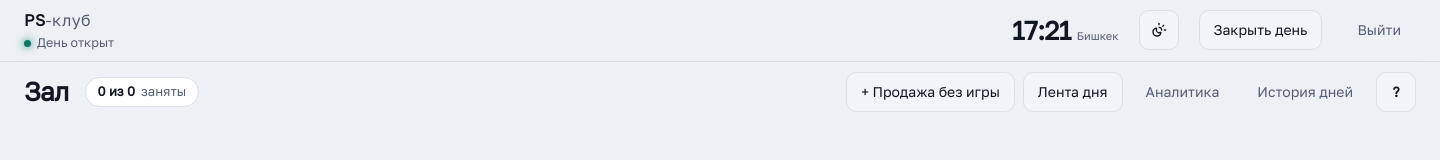
HallPage › продажа без игры › shows an error when creating a new ticket fails
The width and height of the screenshot is (1440, 160).
What coordinates should you click on to do the following:
click the button "+ Продажа без игры"
I would click on:
 (931, 92)
Its box is [846, 72, 1015, 112].
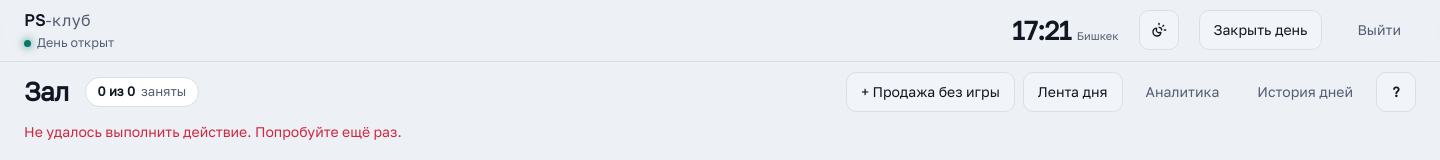
Expected: the text "Не удалось выполнить действие. Попробуйте ещё раз." is shown, [24, 123, 402, 140]
